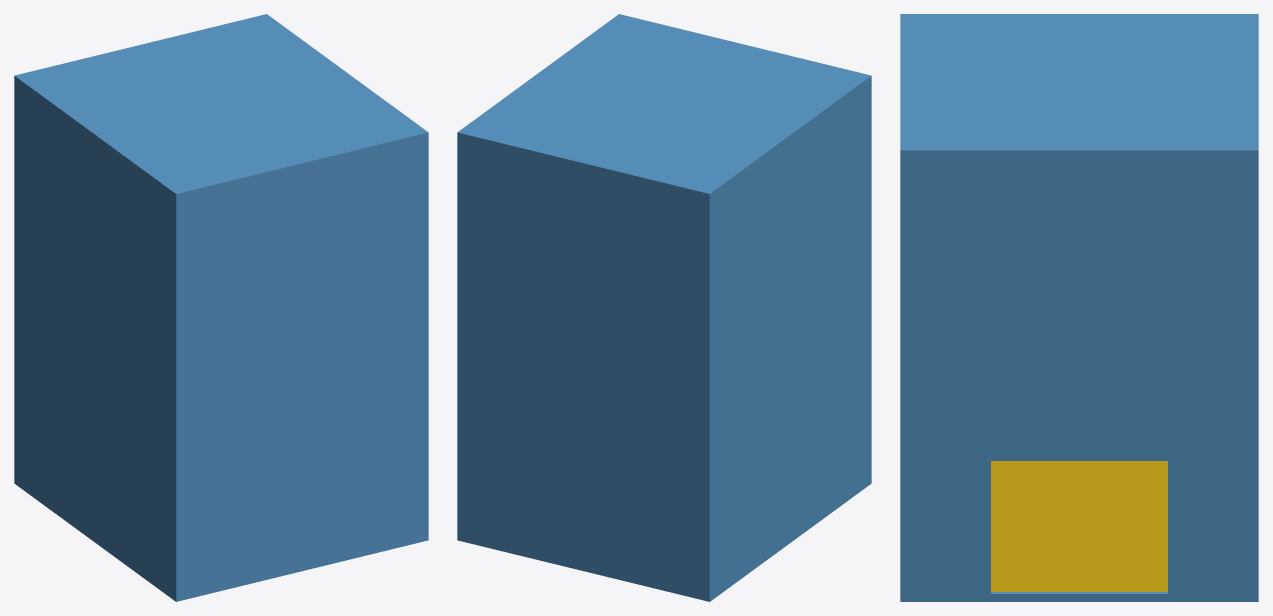
Rendered from TestElevator.obj.
3 views of the same model, side by side, from view 1: azimuth 30°, elevation 25°; view 2: azimuth 150°, elevation 25°; view 3: azimuth 270°, elevation 25° (orthographic). The views are drawn at different scales.
Parts seen in each view (by area): view 1: Cube; view 2: Cube; view 3: Cube.
Part boxes in pixels (box(x1,y1,x2,y2)): Cube: box(14, 14, 428, 601); Cube: box(457, 14, 871, 601); Cube: box(900, 14, 1258, 601).
Bounding box in the file's own units: 2.72 × 4.2 × 3.02.
